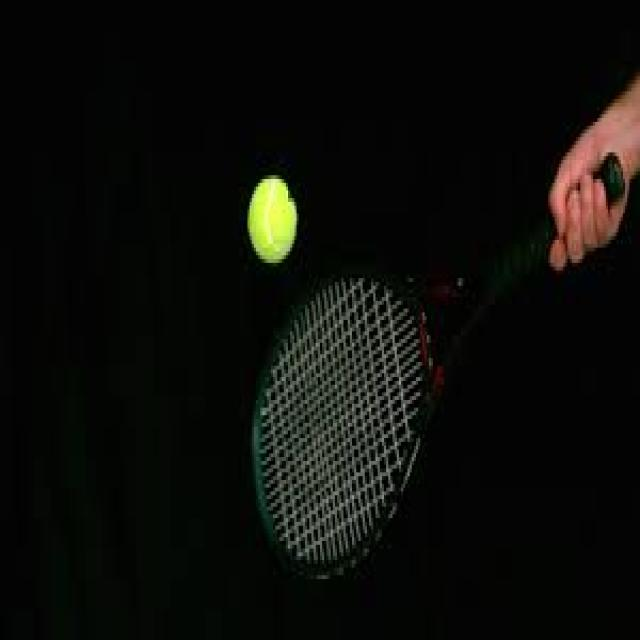ball: (246, 176, 300, 268)
